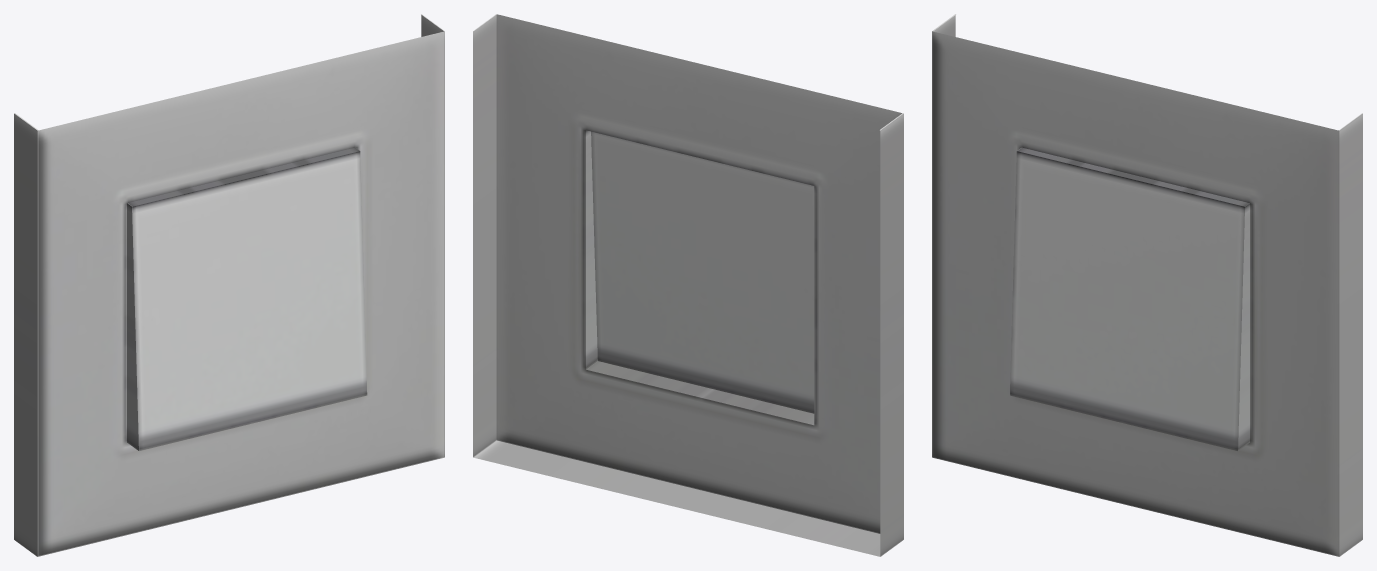
File: Obj-electric-interupteur_01.FBX
The picture shows the model from 3 angles, left to right: view 1: azimuth 30°, elevation 25°; view 2: azimuth 150°, elevation 25°; view 3: azimuth 330°, elevation 25°; orthographic projection.
Parts seen in each view (by area): view 1: Obj-electric-interupteur_01; view 2: Obj-electric-interupteur_01; view 3: Obj-electric-interupteur_01.
Part boxes in pixels (left/top/right/bottom): Obj-electric-interupteur_01: left=14, top=14, right=444, bottom=556; Obj-electric-interupteur_01: left=473, top=14, right=903, bottom=556; Obj-electric-interupteur_01: left=932, top=14, right=1362, bottom=556.
Size of the model in its own units: 10 by 1.5 by 10.
Materials: 1 (1 with a texture image).
